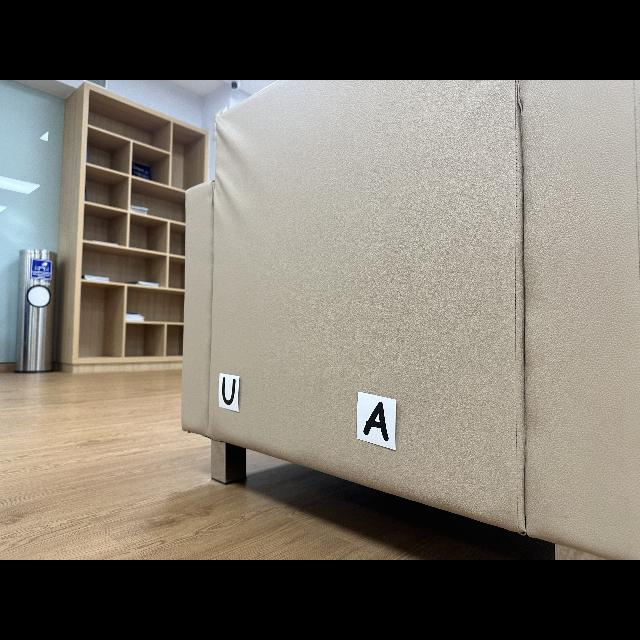A: (364, 401, 389, 441)
U: (222, 377, 236, 405)
